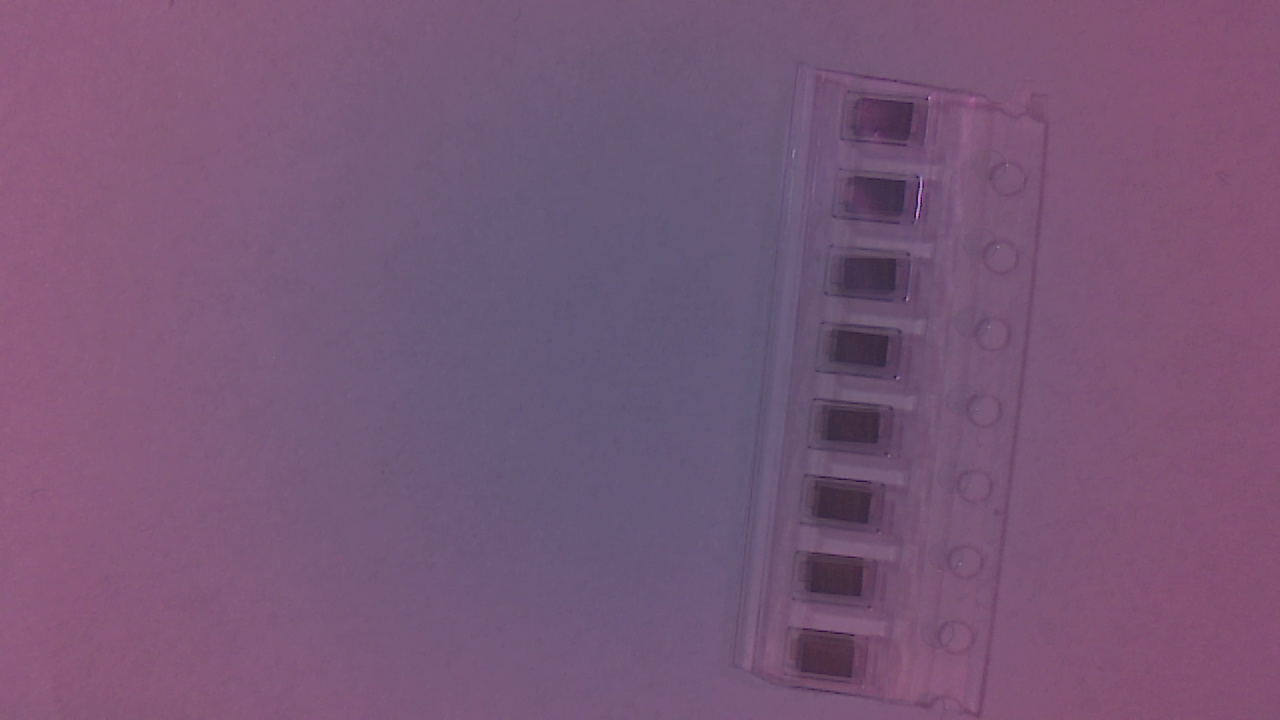Diode: (800, 554, 882, 606), (849, 101, 927, 150), (808, 481, 888, 528), (838, 255, 910, 307), (793, 636, 869, 681), (829, 329, 902, 375), (845, 176, 917, 222), (817, 408, 886, 446)
